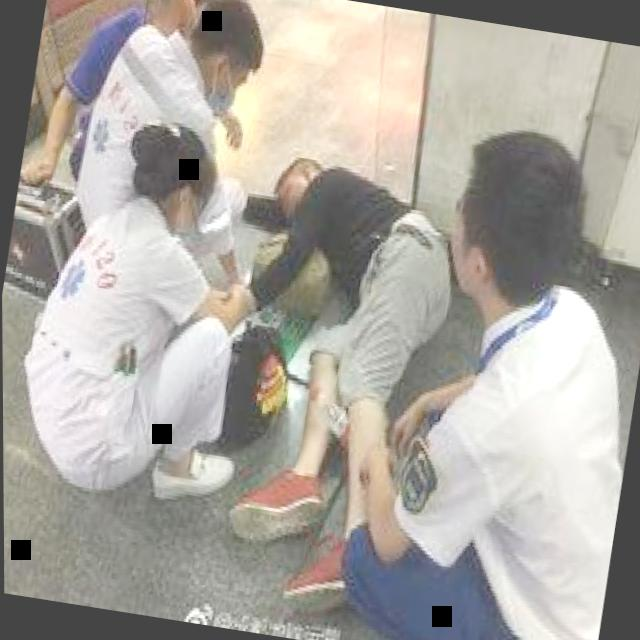Fall-Detected: (171, 109, 488, 596)
